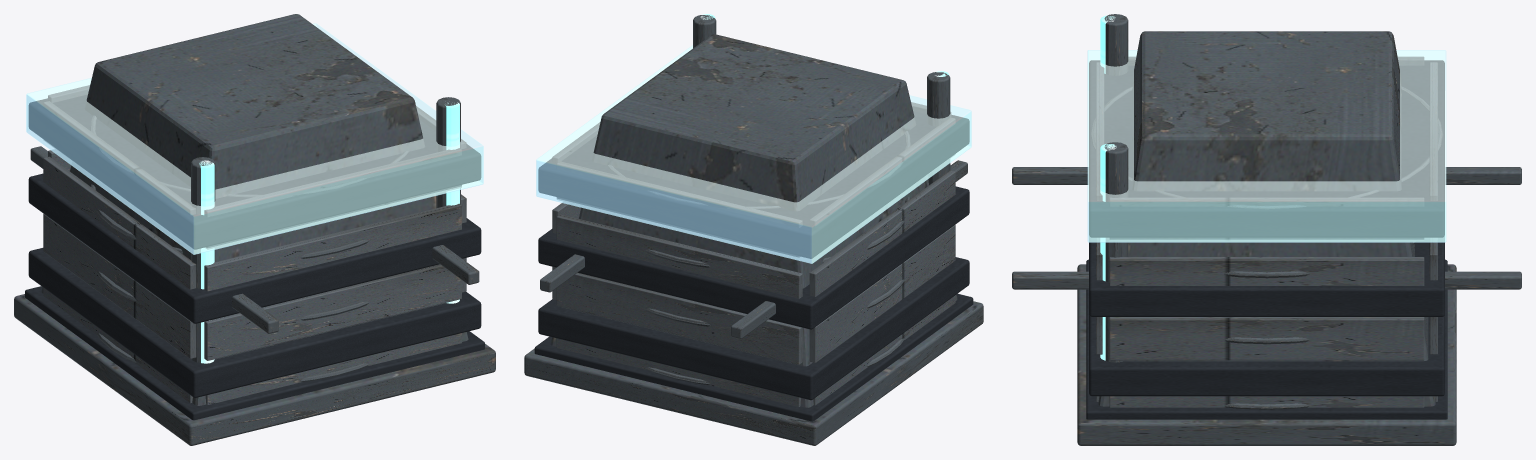
File: tower_tier.glb
3 views of the same model, side by side, from view 1: azimuth 30°, elevation 25°; view 2: azimuth 150°, elevation 25°; view 3: azimuth 270°, elevation 25° (orthographic). The views are drawn at different scales.
Parts seen in each view (by area): view 1: TierShaft, TierGlazing, TierPanel2, TierPanel0, TierPanel1, TierRing, TierRibZ_1_1, TierRibZ_2_1, TierRing2, TierRibX_1_-1, TierRibX_2_-1, TierRibZ_3_1 (+13 smaller); view 2: TierShaft, TierGlazing, TierPanel2, TierPanel0, TierPanel1, TierRing, TierRibZ_1_-1, TierRibZ_2_-1, TierRing2, TierRibX_1_-1, TierRibX_2_-1, TierRibZ_3_-1 (+12 smaller); view 3: TierShaft, TierGlazing, TierPanel2, TierPanel0, TierRibX_1_1, TierRing, TierPanel1, TierRibX_2_1, TierRing2, TierRibX_3_1, TierRibX_0_1, TierConduit10 (+11 smaller).
Boxes of the visible parts, x1=… form: TierShaft: x1=41, y1=14, x2=468, y2=405; TierGlazing: x1=26, y1=23, x2=483, y2=254; TierPanel2: x1=28, y1=94, x2=481, y2=249; TierPanel0: x1=28, y1=248, x2=481, y2=397; TierPanel1: x1=28, y1=173, x2=481, y2=323; TierRing: x1=14, y1=294, x2=495, y2=445; TierRibZ_1_1: x1=204, y1=264, x2=461, y2=360; TierRibZ_2_1: x1=204, y1=203, x2=461, y2=291; TierRing2: x1=25, y1=286, x2=484, y2=420; TierRibX_1_-1: x1=43, y1=214, x2=196, y2=358; TierRibX_2_-1: x1=43, y1=156, x2=196, y2=289; TierRibZ_3_1: x1=204, y1=148, x2=461, y2=248; TierShaft: x1=550, y1=34, x2=957, y2=407; TierGlazing: x1=536, y1=45, x2=971, y2=263; TierPanel2: x1=538, y1=111, x2=969, y2=258; TierPanel0: x1=538, y1=257, x2=969, y2=400; TierPanel1: x1=538, y1=186, x2=969, y2=329; TierRing: x1=524, y1=301, x2=983, y2=445; TierRibZ_1_-1: x1=556, y1=273, x2=802, y2=364; TierRibZ_2_-1: x1=556, y1=214, x2=802, y2=298; TierRing2: x1=534, y1=293, x2=973, y2=421; TierRibX_1_-1: x1=809, y1=224, x2=955, y2=362; TierRibX_2_-1: x1=809, y1=170, x2=955, y2=296; TierRibZ_3_-1: x1=556, y1=161, x2=802, y2=258; TierShaft: x1=1098, y1=31, x2=1435, y2=406; TierGlazing: x1=1087, y1=50, x2=1446, y2=242; TierPanel2: x1=1089, y1=60, x2=1444, y2=237; TierPanel0: x1=1089, y1=314, x2=1444, y2=396; TierRibX_1_1: x1=1109, y1=317, x2=1424, y2=360; TierRing: x1=1077, y1=264, x2=1456, y2=445; TierPanel1: x1=1089, y1=236, x2=1444, y2=316; TierRibX_2_1: x1=1109, y1=257, x2=1424, y2=285; TierRing2: x1=1086, y1=259, x2=1447, y2=419; TierRibX_3_1: x1=1109, y1=197, x2=1424, y2=240; TierRibX_0_1: x1=1109, y1=396, x2=1424, y2=407; TierConduit10: x1=1104, y1=142, x2=1128, y2=362.
Bounding box in the file's own units: 13 × 11 × 17.49.
Materials: 5 (4 with a texture image).
